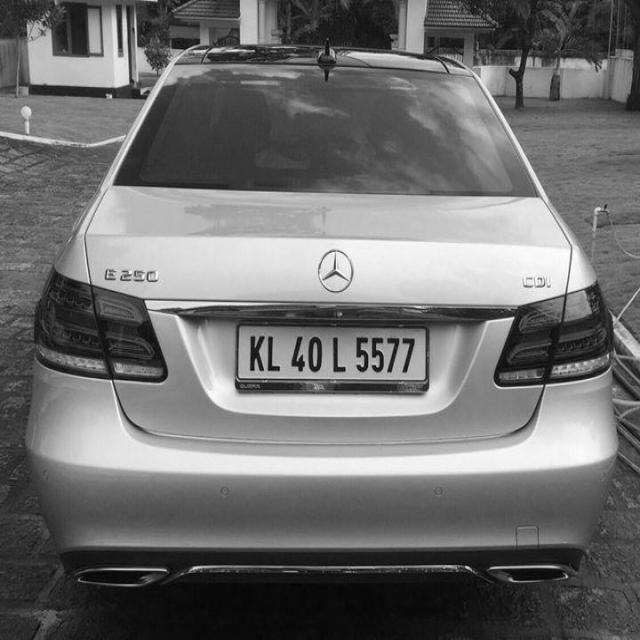car: (28, 38, 626, 618)
license-plate: (238, 330, 425, 399)
